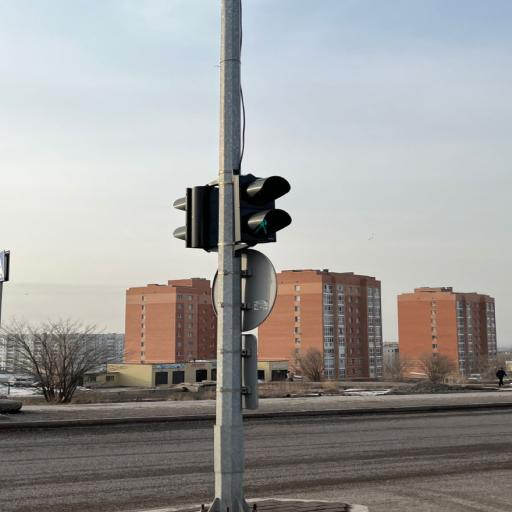laptop: (496, 368, 507, 386)
phone: (209, 0, 248, 511)
ramp: (245, 411, 511, 511)
table: (235, 175, 291, 246), (173, 186, 218, 251)
